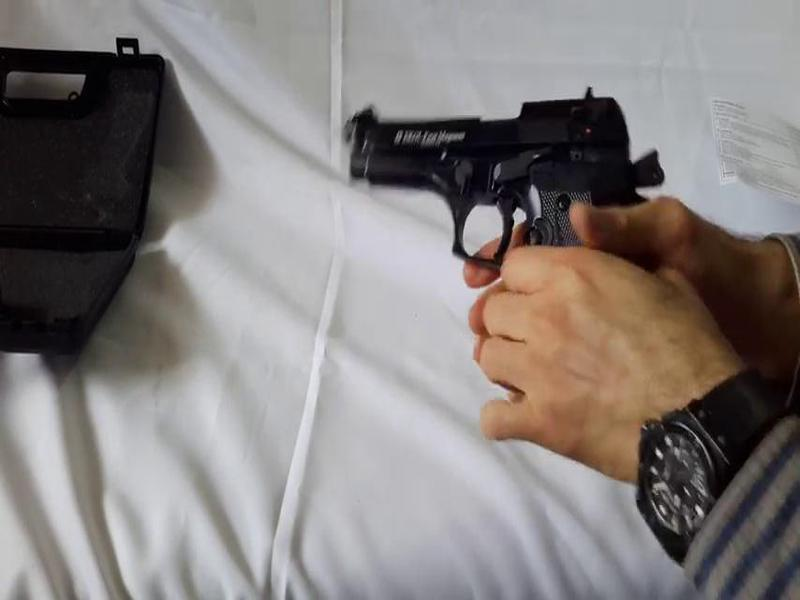Pistola: (329, 76, 688, 302)
